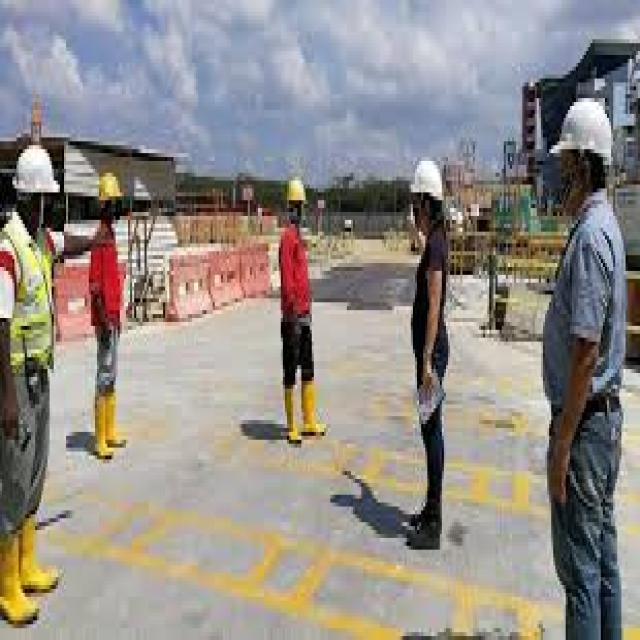Reflective-Jacket: (2, 216, 56, 385)
Safety-Helmet: (550, 86, 620, 177), (10, 137, 60, 200), (405, 145, 452, 212), (93, 161, 126, 208), (281, 169, 312, 216)
